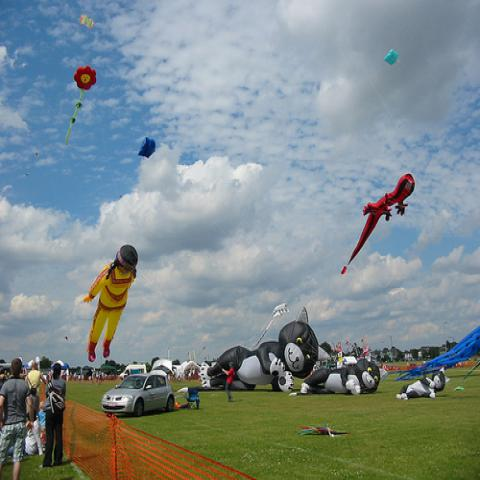car: (102, 373, 175, 416)
